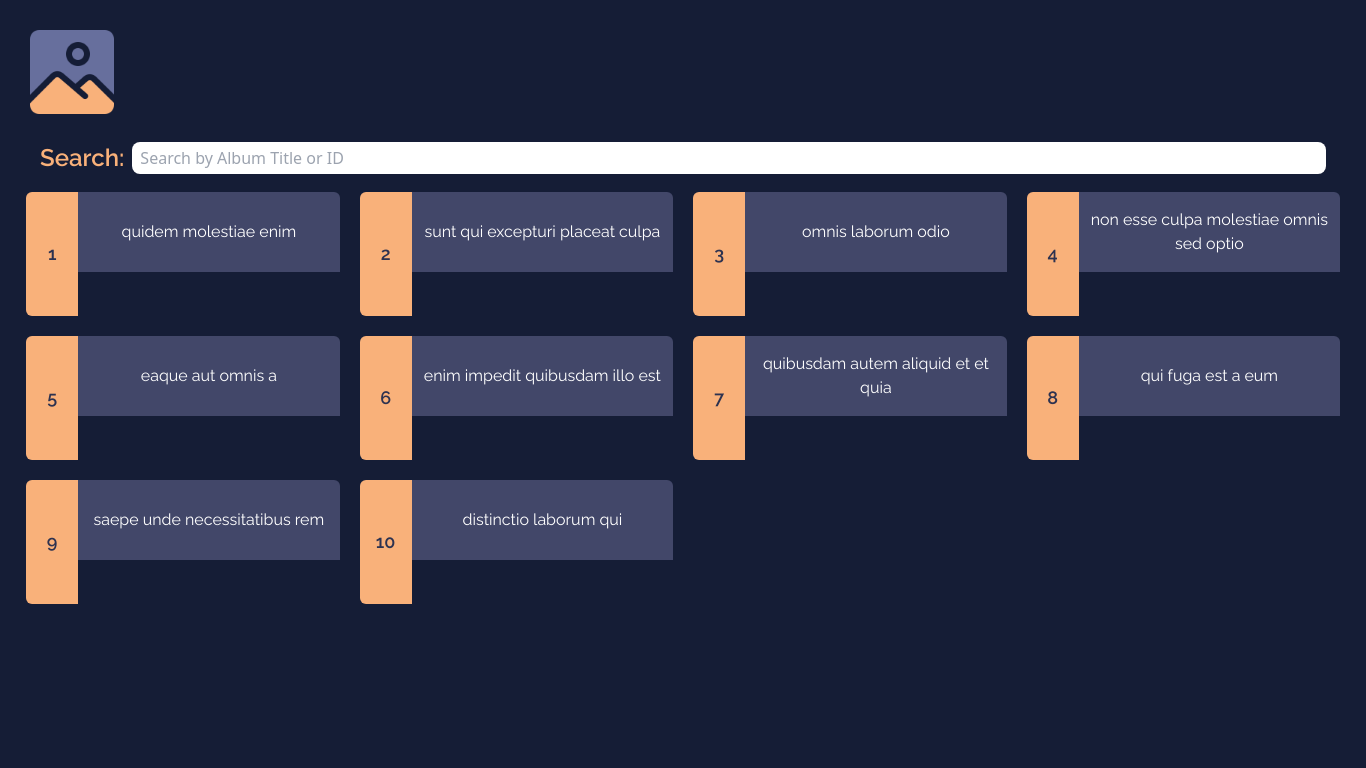
Test: Albums/Landing Page › should allow a user to search by album title
In the search field with test id "search-bar": x=729, y=158 [132,142,1326,174], type "enim"
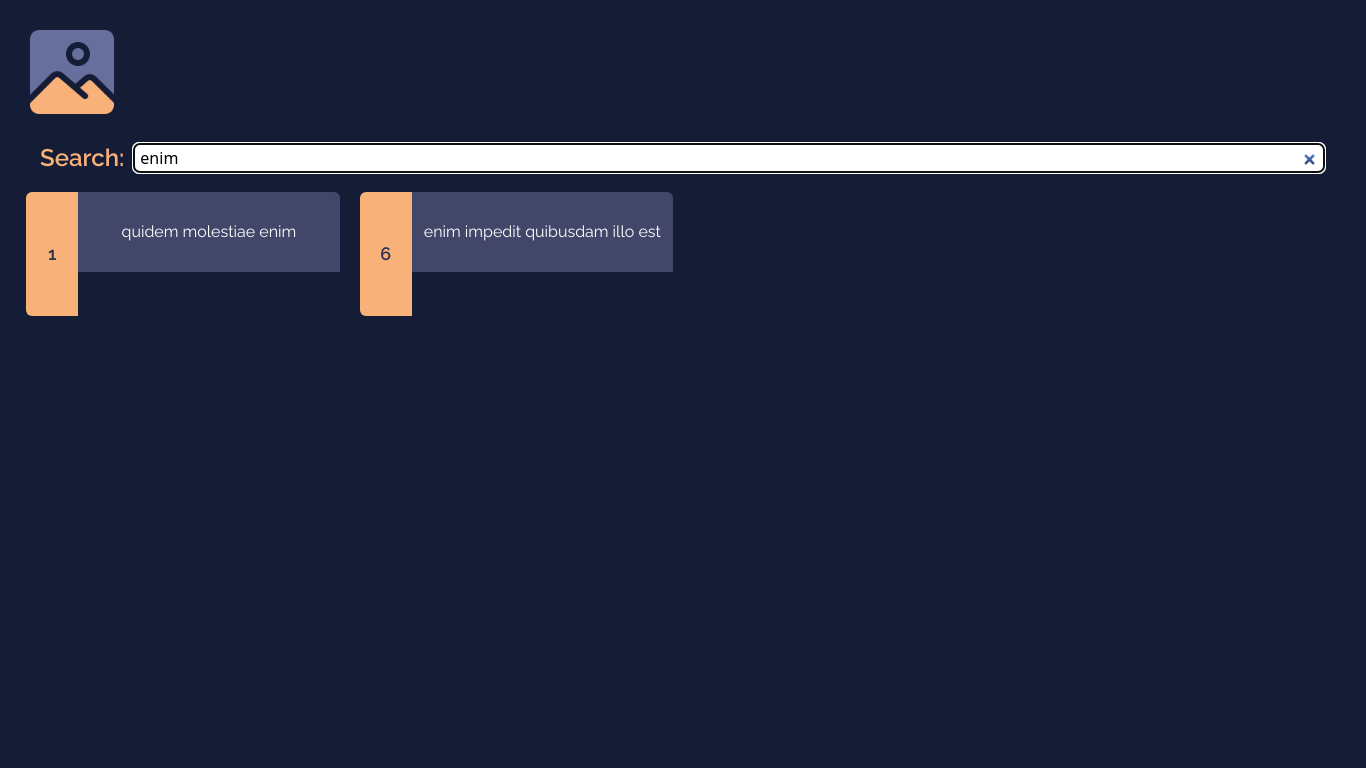
Expected: the text with test id "album-title" reads "quidem molestiae enim", [122,220,297,244]
Result: the number of elements with test id "album-title" is 2 at [122,220,296,244]; [424,220,661,244]
